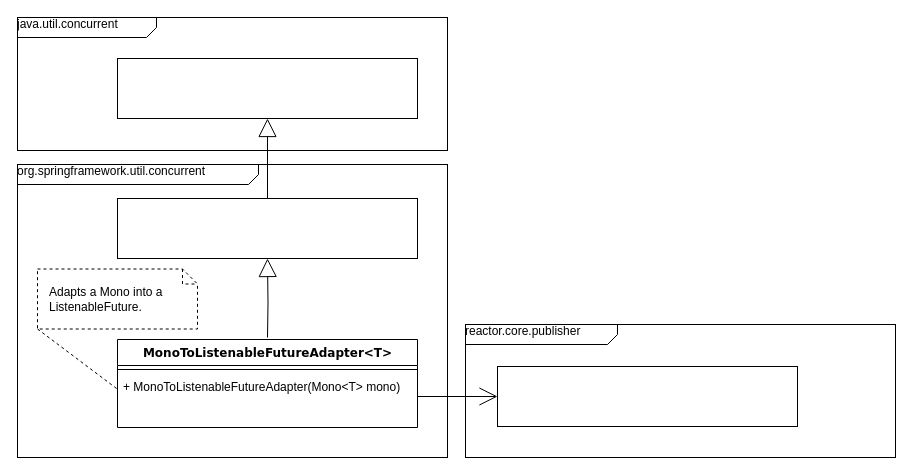
Some shapes in this 913 by 475 pixel diagram are drawn without their labels. Here are the shapes that lost their labels. From the top down, the centre of each, then its label:
(x=267, y=88): <<Interface>> Future<T>
(x=267, y=228): <<Interface>> ListenableFuture<T>
(x=647, y=396): Mono<T>
